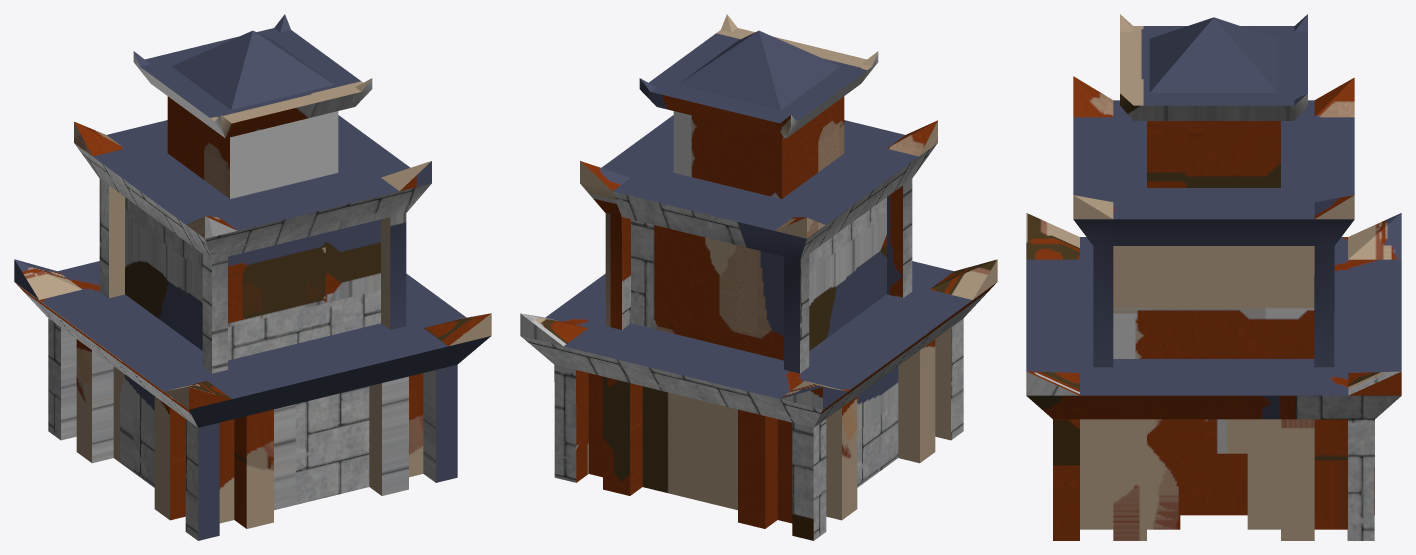
File: temple.obj
The picture shows the model from 3 angles, left to right: view 1: azimuth 30°, elevation 25°; view 2: azimuth 150°, elevation 25°; view 3: azimuth 270°, elevation 25°; orthographic projection. The views are drawn at different scales.
Visible parts, largest first — view 1: temple; view 2: temple; view 3: temple.
Part boxes in pixels (x1,y1,x2,y2): temple: [14, 14, 491, 540]; temple: [520, 14, 997, 540]; temple: [1026, 14, 1401, 540].
Bounding box in the file's own units: 10 × 13.39 × 10.
